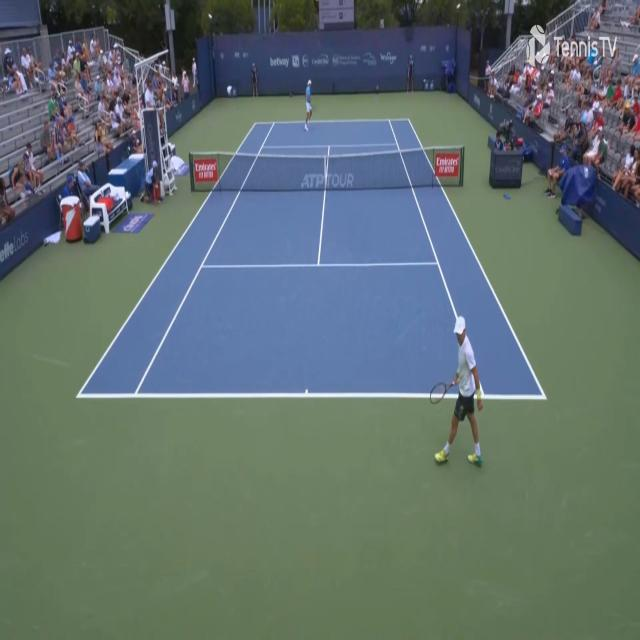tennis-player: (427, 316, 487, 473), (303, 76, 315, 134)
